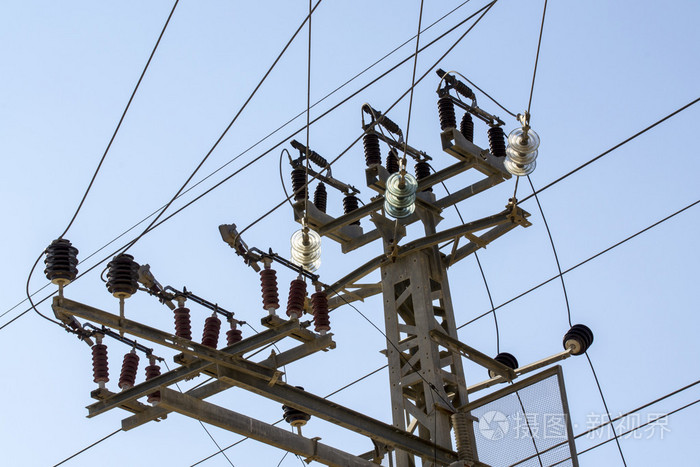insulator: (41, 239, 80, 284), (506, 128, 541, 175), (386, 172, 419, 219), (103, 256, 142, 294), (292, 230, 323, 273), (560, 323, 596, 350), (287, 281, 310, 319), (314, 291, 334, 333), (290, 167, 312, 205), (260, 269, 280, 310), (92, 344, 112, 384), (118, 353, 141, 386), (485, 125, 507, 158), (203, 316, 224, 347), (488, 352, 519, 373), (174, 307, 193, 340), (436, 98, 455, 130), (363, 132, 382, 163), (341, 195, 360, 224), (459, 112, 475, 140), (415, 157, 433, 176), (312, 187, 327, 208), (387, 152, 402, 171), (225, 329, 241, 346), (147, 363, 161, 382)
